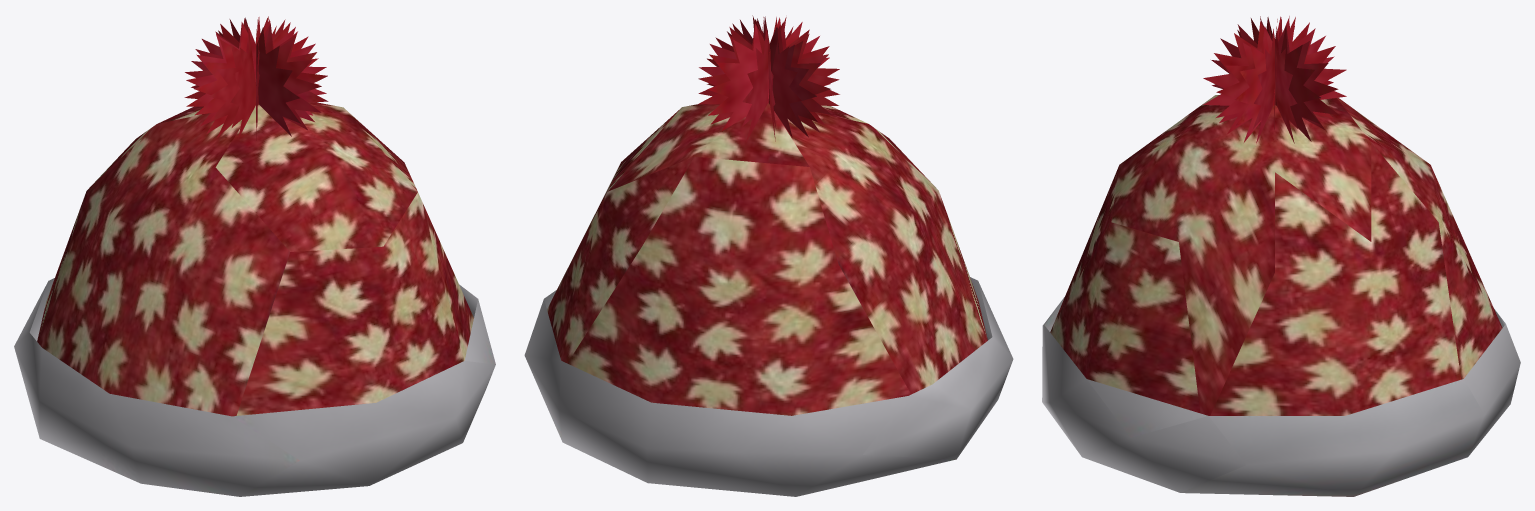
The model's file is hat2.dae.
3 views of the same model, side by side, from view 1: azimuth 30°, elevation 25°; view 2: azimuth 150°, elevation 25°; view 3: azimuth 270°, elevation 25° (orthographic).
Parts seen in each view (by area): view 1: Circle_003; view 2: Circle_003; view 3: Circle_003.
Boxes of the visible parts, box(x1,y1,x2,y2) form: Circle_003: box(14, 16, 495, 496); Circle_003: box(524, 15, 1013, 496); Circle_003: box(1042, 16, 1520, 496).
Bounding box in the file's own units: 0.1496 × 0.1468 × 0.1311.
Materials: 1 (1 with a texture image).
